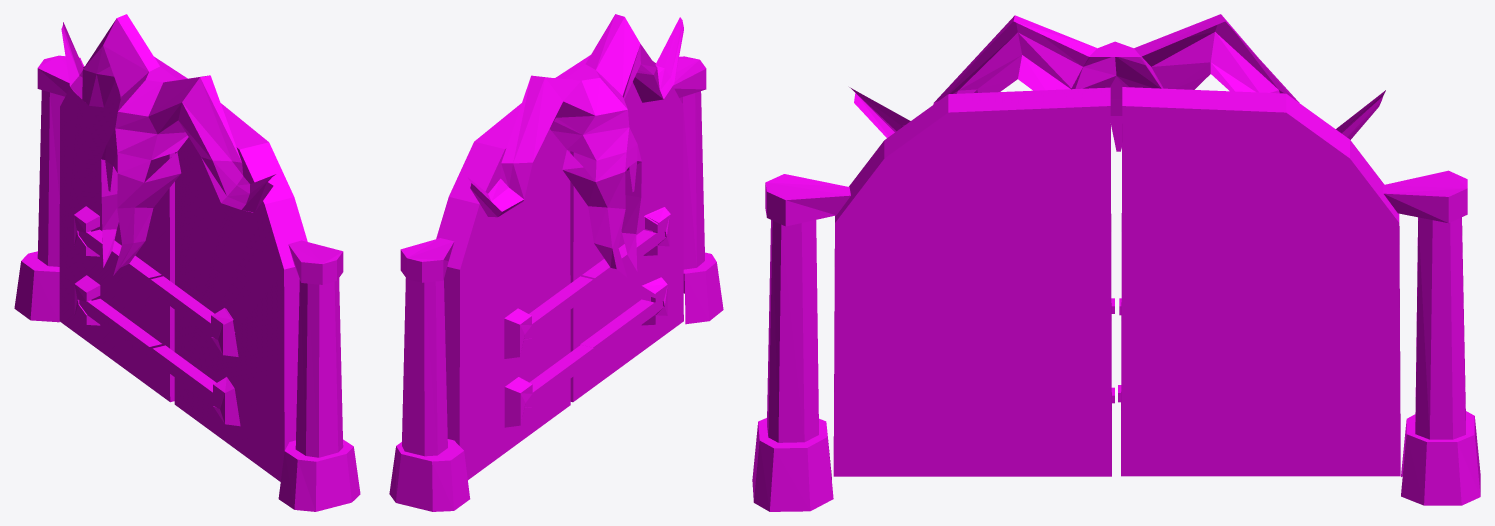
Rendered from rams skull door.obj.
3 views of the same model, side by side, from view 1: azimuth 30°, elevation 25°; view 2: azimuth 150°, elevation 25°; view 3: azimuth 270°, elevation 25° (orthographic). The views are drawn at different scales.
Parts seen in each view (by area): view 1: rams skull door_back; view 2: rams skull door_back; view 3: rams skull door_back.
Boxes of the visible parts, x1,y1,x2,y2 form: rams skull door_back: [14, 14, 360, 511]; rams skull door_back: [389, 14, 723, 511]; rams skull door_back: [752, 14, 1480, 511].
Size of the model in its own units: 1.14 by 3.48 by 5.02.
